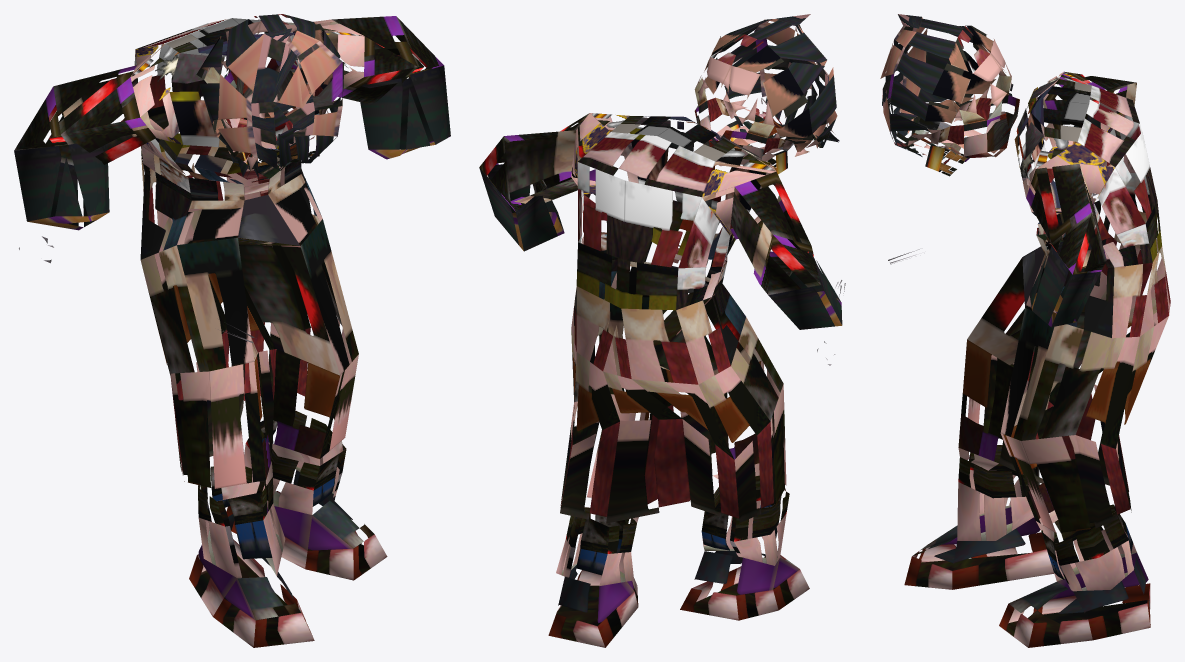
The picture shows the model from 3 angles, left to right: view 1: azimuth 30°, elevation 25°; view 2: azimuth 150°, elevation 25°; view 3: azimuth 270°, elevation 25°; orthographic projection. The views are drawn at different scales.
Parts seen in each view (by area): view 1: T1L6M004_0; view 2: T1L6M004_0; view 3: T1L6M004_0.
Part boxes in pixels (x1,y1,x2,y2): T1L6M004_0: (14,14,450,647); T1L6M004_0: (479,14,845,647); T1L6M004_0: (880,14,1170,647).
Bounding box in the file's own units: 0.8007 × 1.15 × 0.546.
